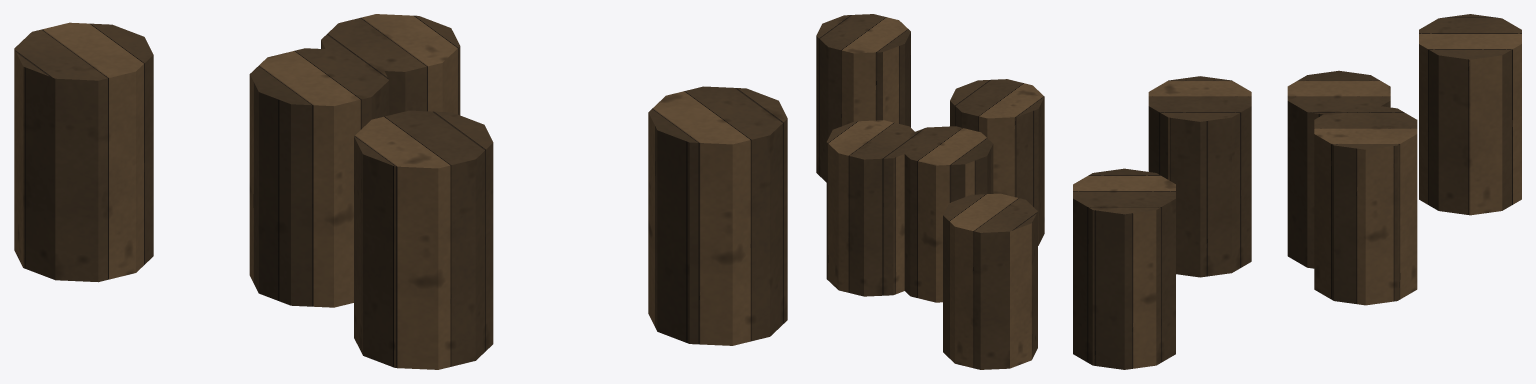
Rendered from A_barrels.glb.
3 views of the same model, side by side, from view 1: azimuth 30°, elevation 25°; view 2: azimuth 150°, elevation 25°; view 3: azimuth 270°, elevation 25° (orthographic). The views are drawn at different scales.
Parts seen in each view (by area): view 1: A_barrels; view 2: A_barrels; view 3: A_barrels.
Part boxes in pixels (bbox=[...]): A_barrels: bbox=[14, 14, 787, 369]; A_barrels: bbox=[816, 14, 1044, 369]; A_barrels: bbox=[1073, 14, 1521, 369].
Bounding box in the file's own units: 2.54 × 0.92 × 2.4.
Materials: 1 (1 with a texture image).
